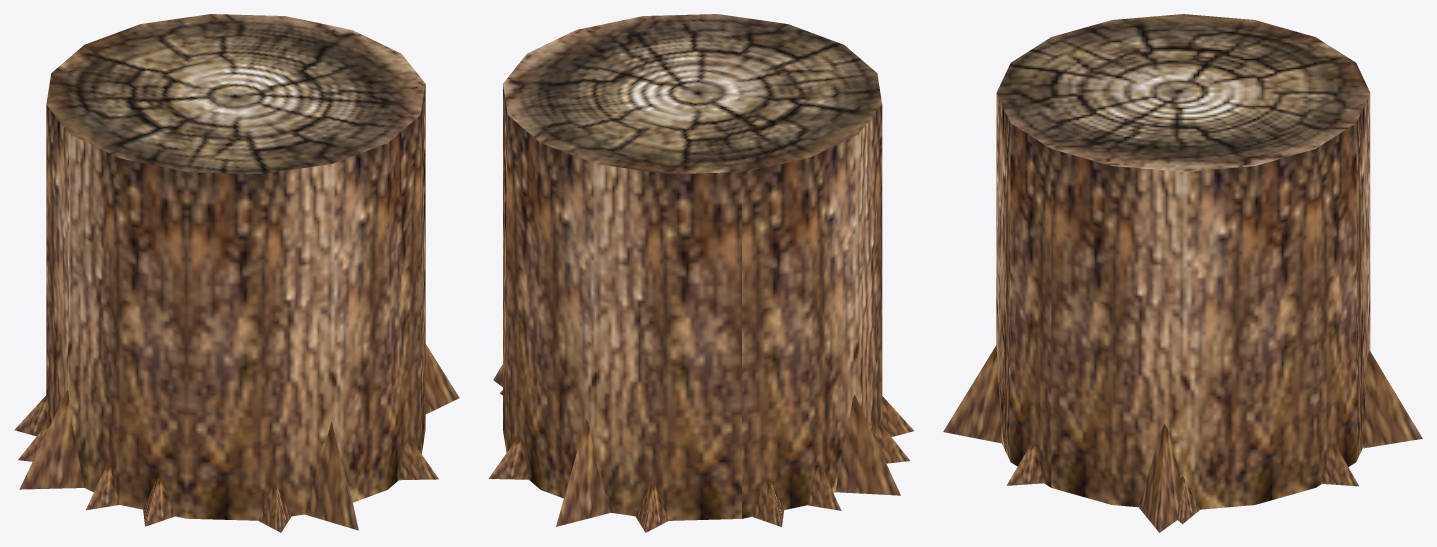
Rendered from tree trunk platform.glb.
3 renders of one model, left to right at view 1: azimuth 30°, elevation 25°; view 2: azimuth 150°, elevation 25°; view 3: azimuth 270°, elevation 25°, orthographic. The views are drawn at different scales.
Visible parts, largest first — view 1: tree, root, root small; view 2: tree, root, root small; view 3: tree, root, root small.
Part boxes in pixels (left/top/right/bottom): tree: left=46, top=14, right=425, bottom=520; root: left=19, top=344, right=459, bottom=530; root small: left=14, top=395, right=438, bottom=532; tree: left=503, top=14, right=882, bottom=520; root: left=493, top=364, right=900, bottom=526; root small: left=488, top=390, right=913, bottom=532; tree: left=996, top=14, right=1370, bottom=509; root: left=943, top=345, right=1422, bottom=532; root small: left=1006, top=443, right=1358, bottom=523.
Size of the model in its own units: 2.56 by 2 by 2.57.
Materials: 2 (2 with a texture image).
